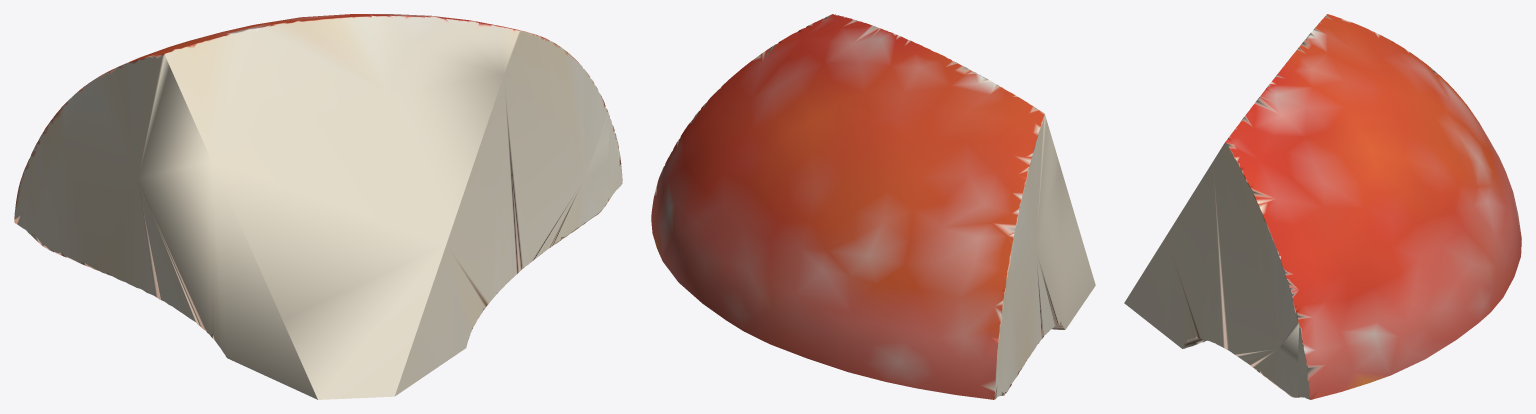
The model's file is amanita-scout-cap4.glb.
3 views of the same model, side by side, from view 1: azimuth 30°, elevation 25°; view 2: azimuth 150°, elevation 25°; view 3: azimuth 270°, elevation 25° (orthographic). The views are drawn at different scales.
Parts seen in each view (by area): view 1: body; view 2: body; view 3: body.
Boxes of the visible parts, <box> form: body: <box>14,14,622,399</box>; body: <box>651,14,1095,399</box>; body: <box>1124,14,1521,399</box>.
Bounding box in the file's own units: 0.7483 × 0.4361 × 0.6072.
